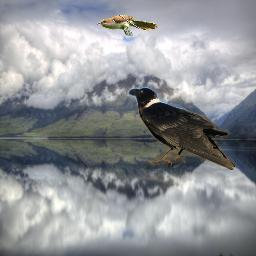Crow: (127, 85, 235, 170)
Cuckoo: (97, 15, 158, 36)
